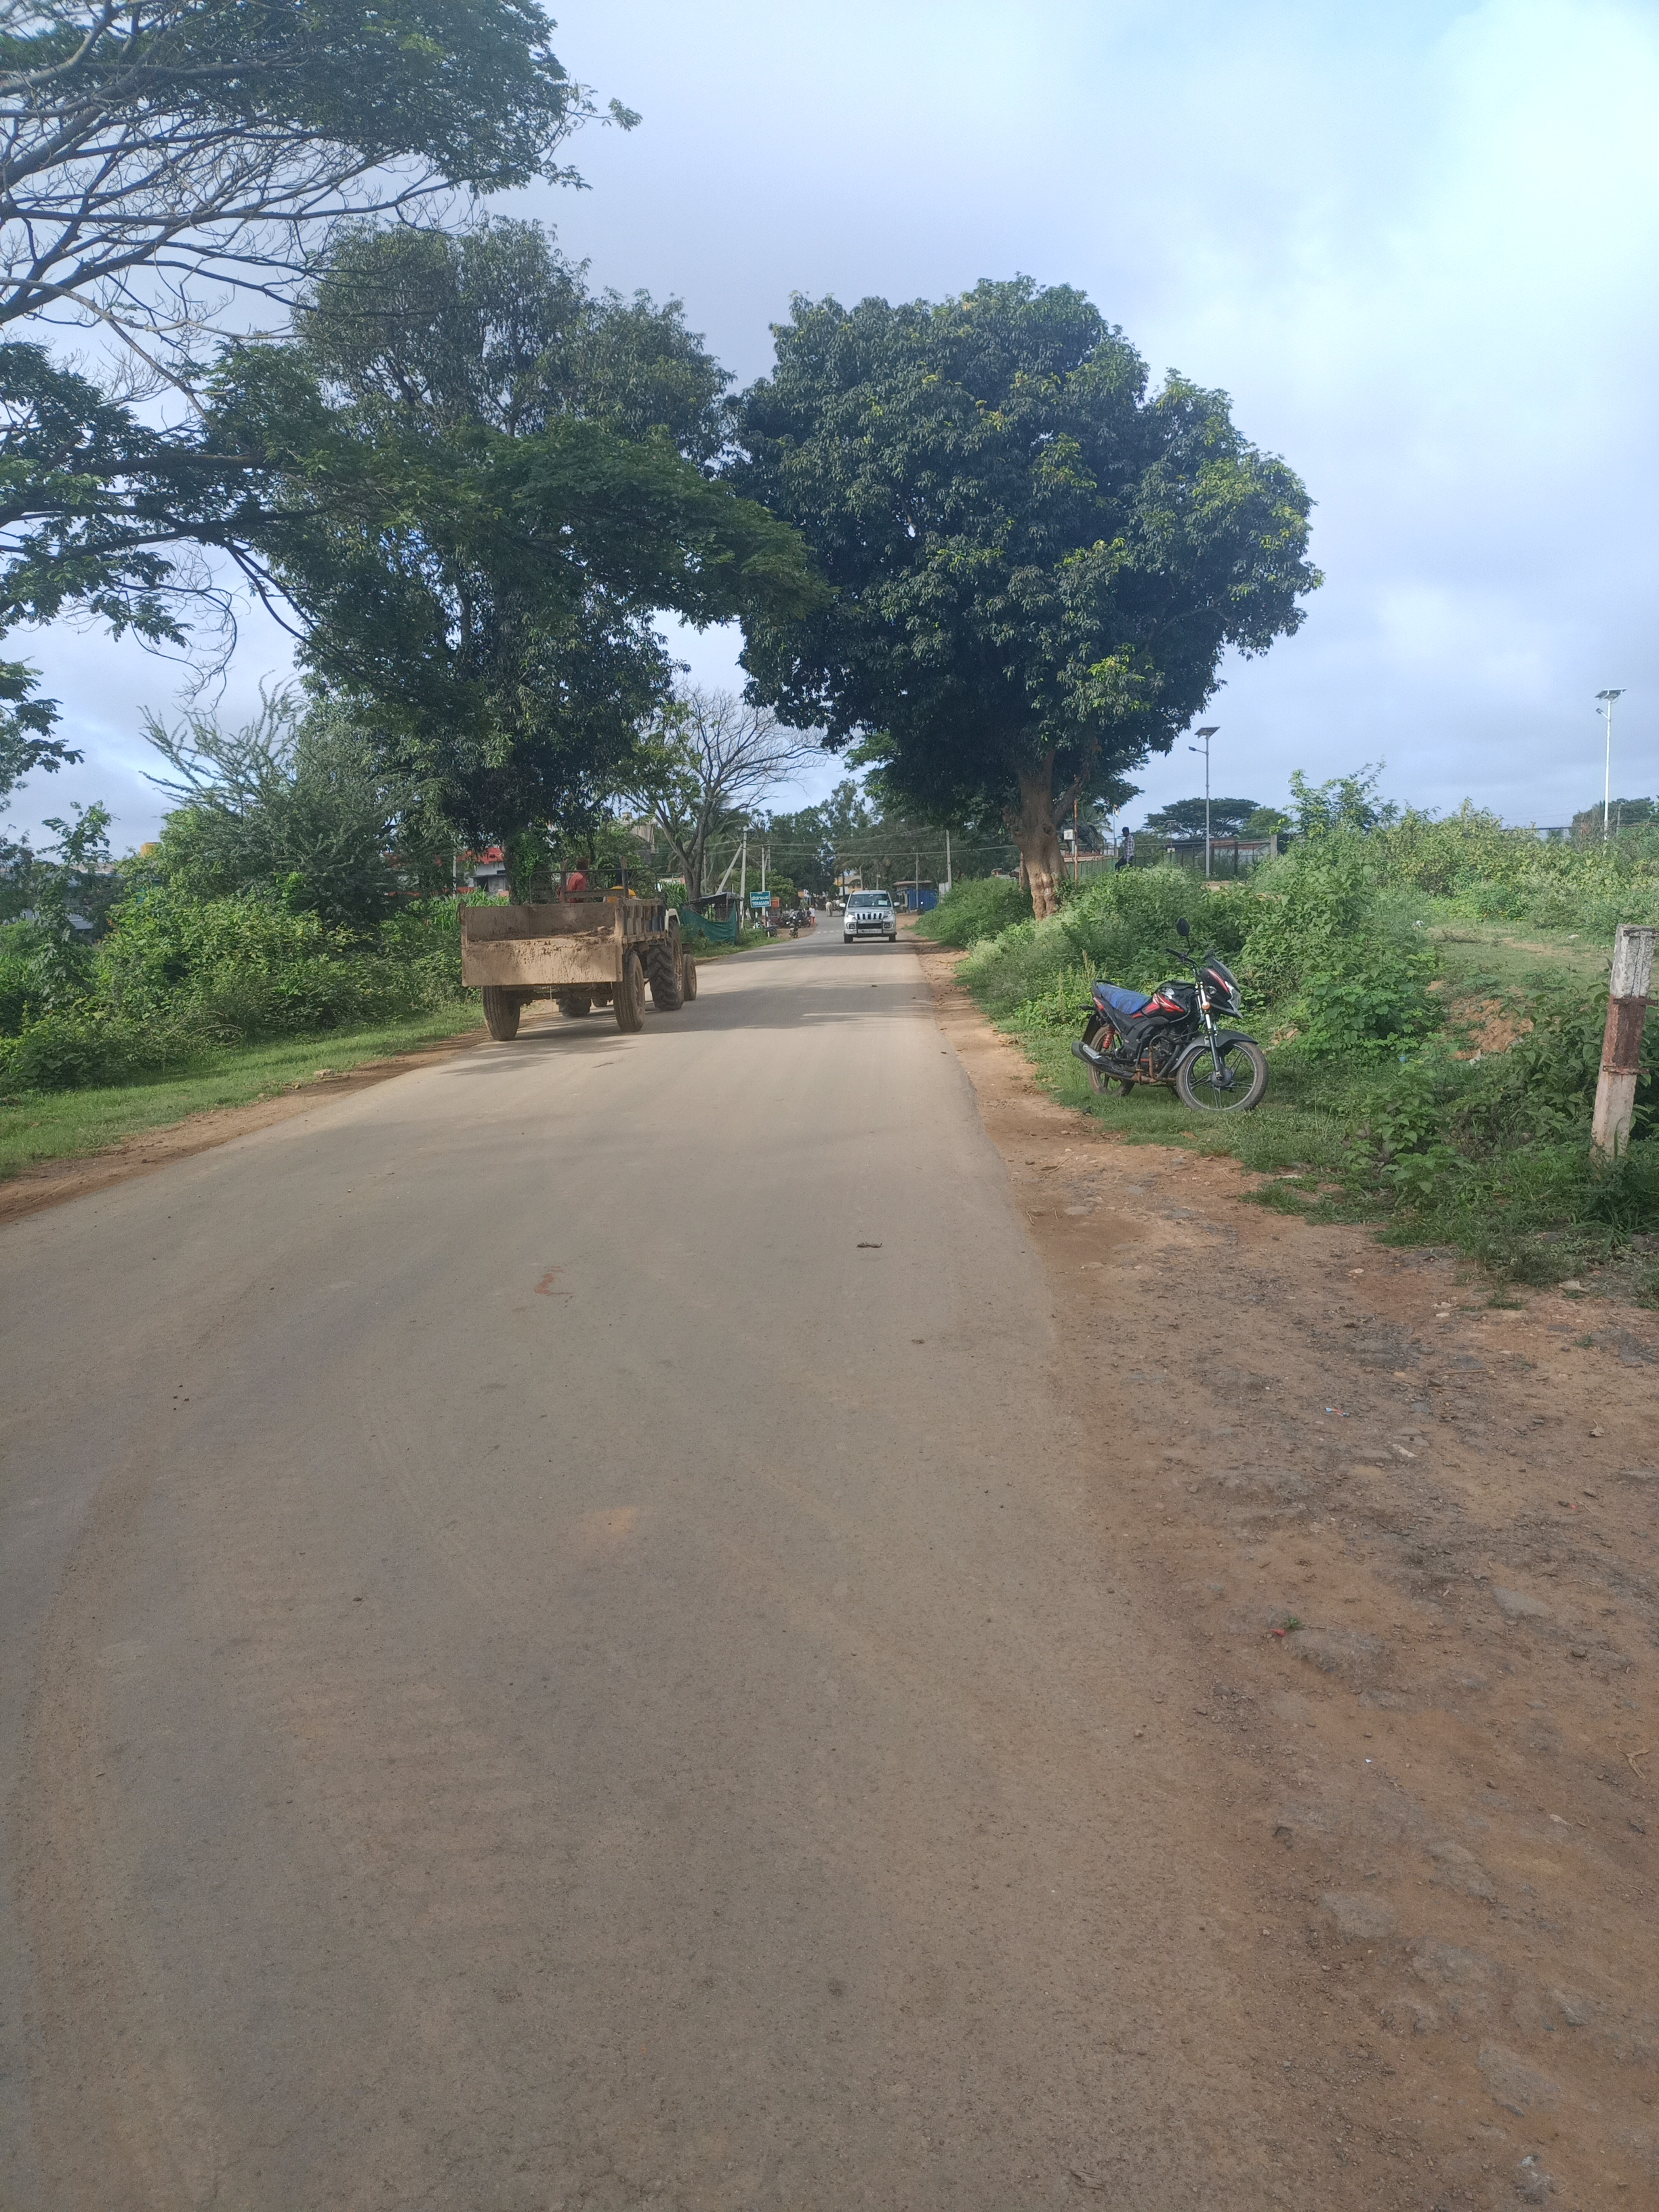truck: (455, 853, 699, 1043)
